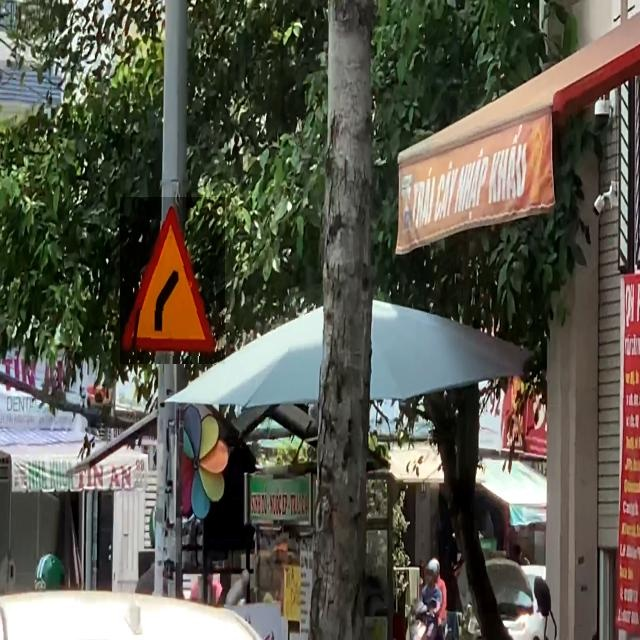bien_nguy_hiem: (120, 197, 225, 364)
